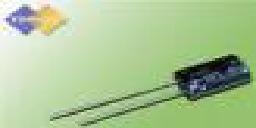Electrolytic-Capacitor: (52, 54, 255, 128)
